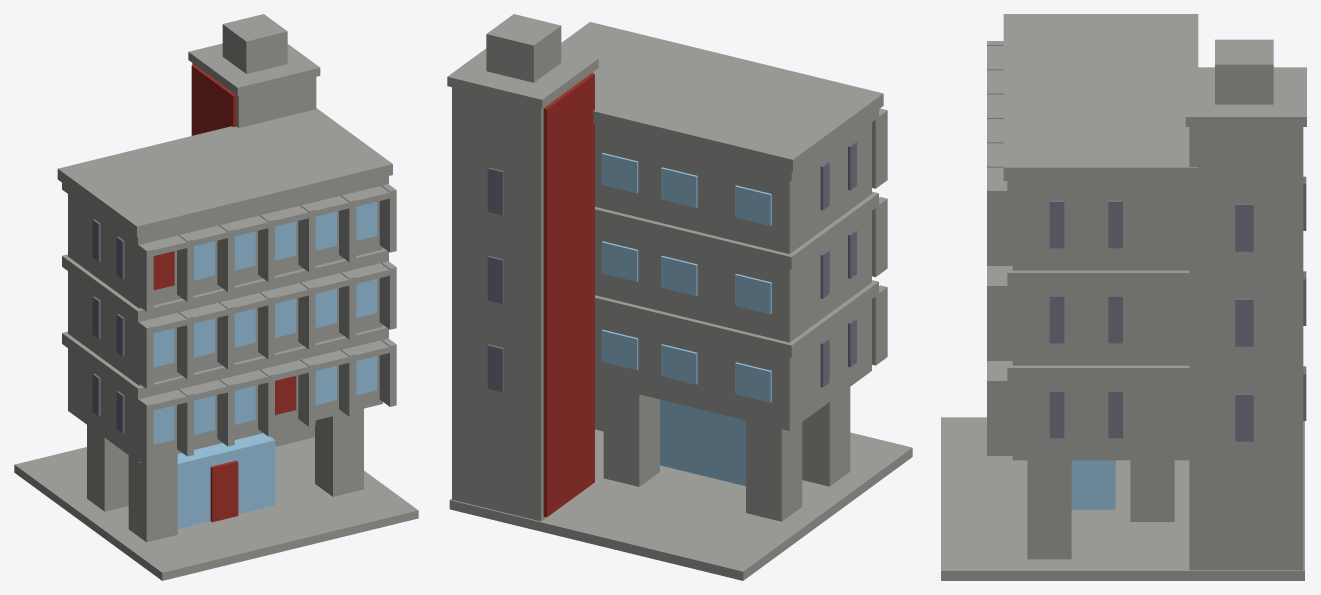
File: tower-1x1-4f-brutalist-a.glb
The picture shows the model from 3 angles, left to right: view 1: azimuth 30°, elevation 25°; view 2: azimuth 150°, elevation 25°; view 3: azimuth 270°, elevation 25°; orthographic projection. The views are drawn at different scales.
Visible parts, largest first — view 1: tower-1x1-4f-brutalist-a; view 2: tower-1x1-4f-brutalist-a; view 3: tower-1x1-4f-brutalist-a.
Part boxes in pixels (x1=…): tower-1x1-4f-brutalist-a: x1=14, y1=14, x2=418, y2=580; tower-1x1-4f-brutalist-a: x1=447, y1=14, x2=912, y2=580; tower-1x1-4f-brutalist-a: x1=941, y1=14, x2=1306, y2=580.
Size of the model in its own units: 0.995 by 1.51 by 0.995.
Materials: 1 (1 with a texture image).
